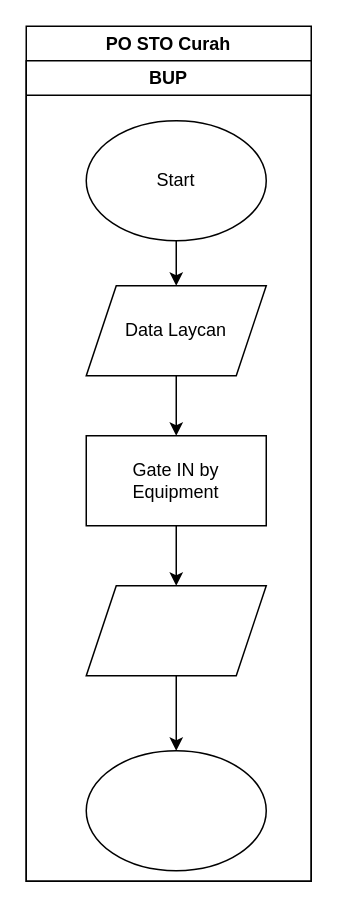
The diagram is 338 pixels wide and 908 high, and some of its shapes have lost their labels. Here are the shapes that lost their labels. From the top down, the centre of each, then its label:
At point 175,630: "Data Gate In".
At point 175,810: "End".
